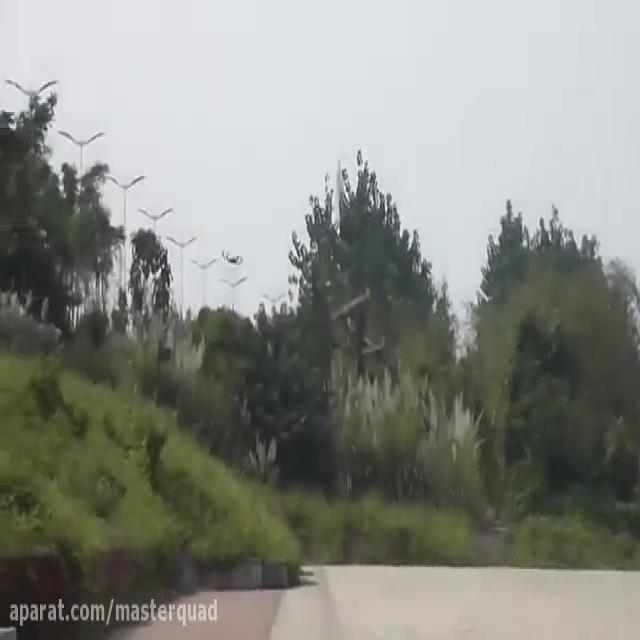drone: (219, 240, 245, 268)
